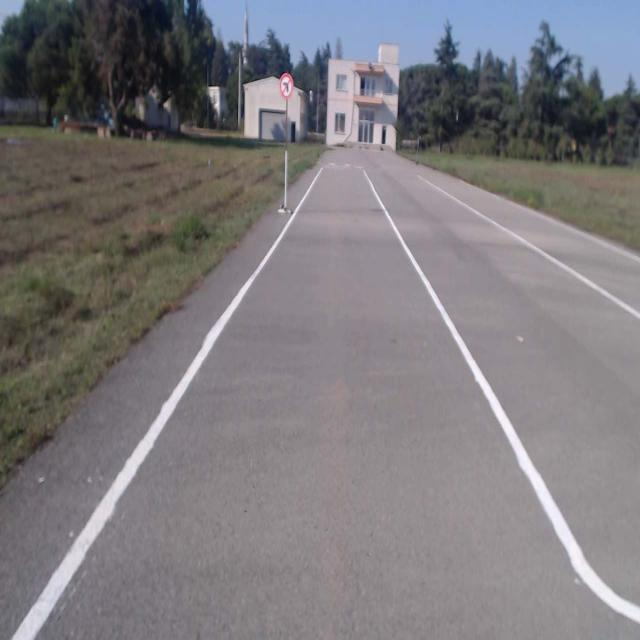soladonulmez: (280, 73, 294, 98)
